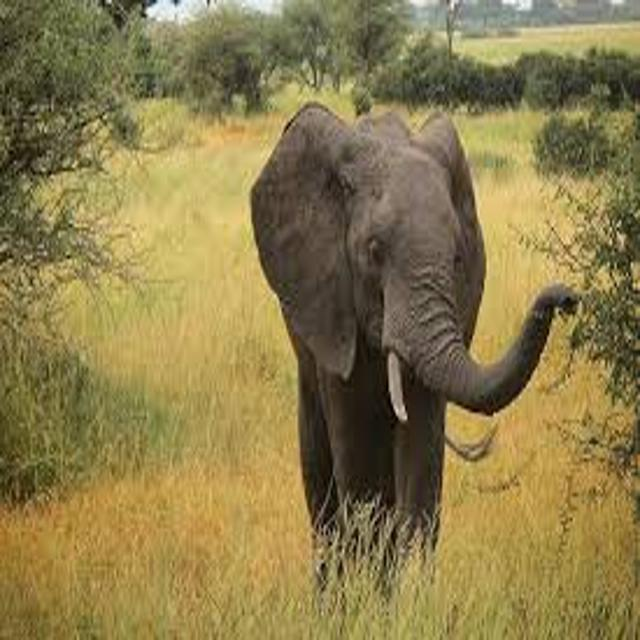Elephant: (242, 78, 540, 590)
